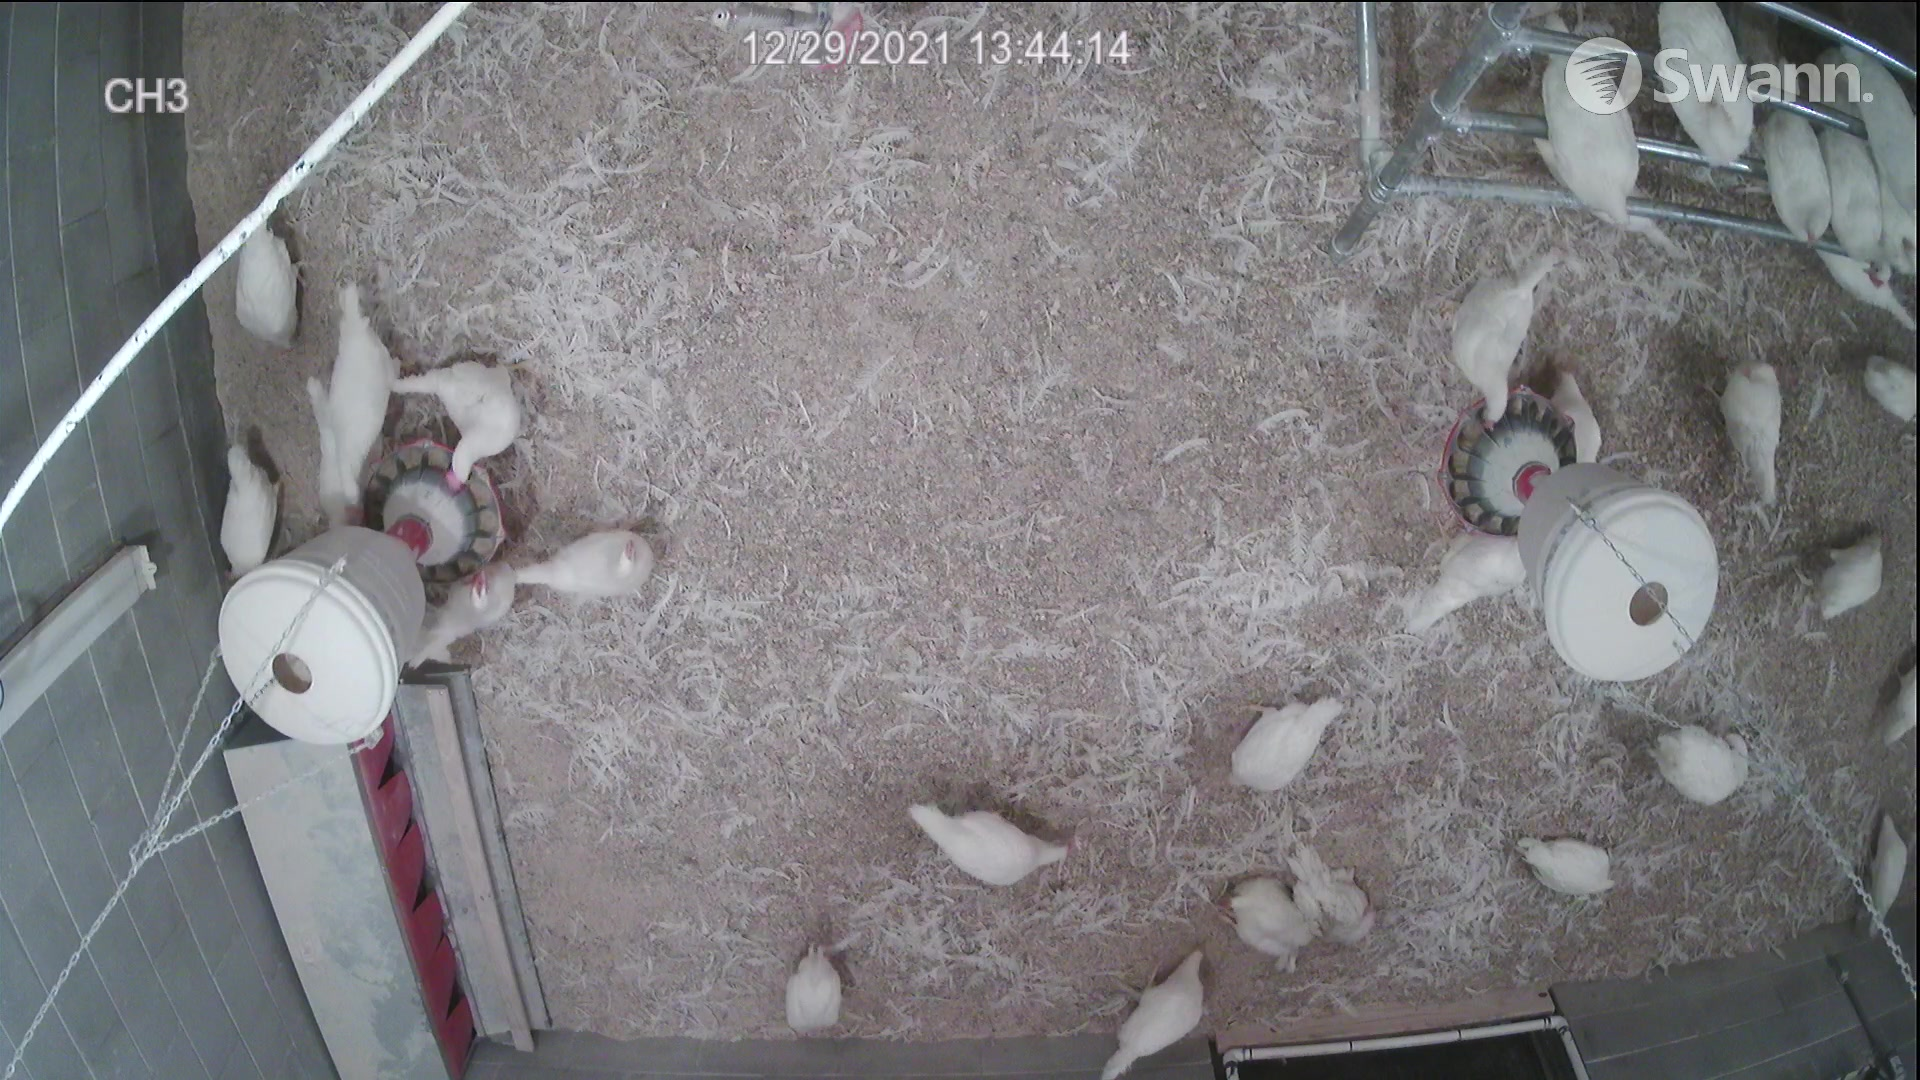Dust Bathing: (1275, 829, 1378, 949)
Feeding: (1440, 237, 1560, 430), (382, 352, 527, 488)
Foraging: (1095, 943, 1240, 1080), (887, 793, 1091, 890), (1221, 680, 1338, 799), (215, 222, 314, 348), (1815, 509, 1891, 633), (1516, 832, 1615, 906), (786, 938, 848, 1030)
Perching: (1535, 11, 1651, 222), (1659, 0, 1763, 186), (1756, 84, 1845, 269), (1815, 113, 1894, 295), (1846, 26, 1920, 211)
Preening: (1658, 723, 1753, 814)
